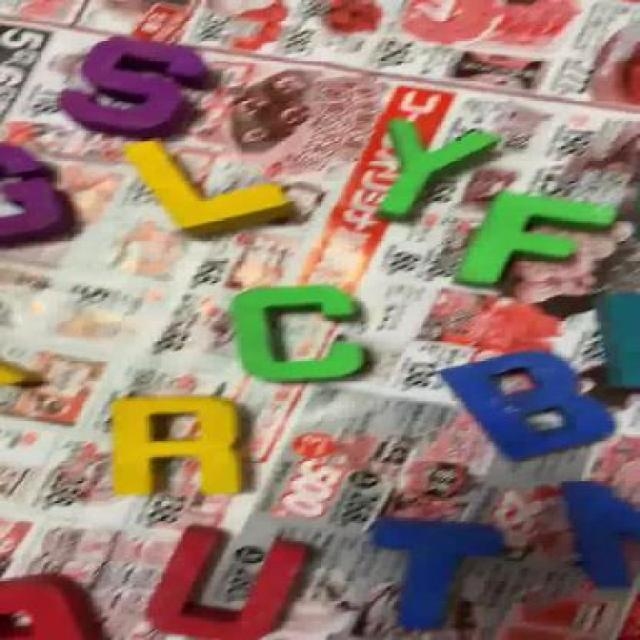B: (448, 354, 618, 458)
C: (231, 285, 372, 386)
F: (466, 191, 614, 289)
L: (125, 142, 293, 232)
R: (111, 395, 254, 491)
S: (56, 34, 202, 131)
T: (371, 519, 514, 624)
U: (147, 524, 307, 636)
Y: (373, 121, 495, 224)
